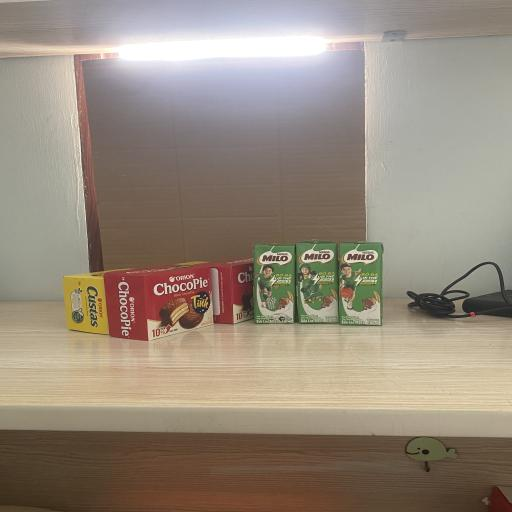chocopie: (102, 262, 214, 340), (212, 257, 254, 325)
custas: (62, 260, 104, 337)
milo: (338, 240, 384, 326), (294, 240, 338, 323), (254, 242, 296, 324)
